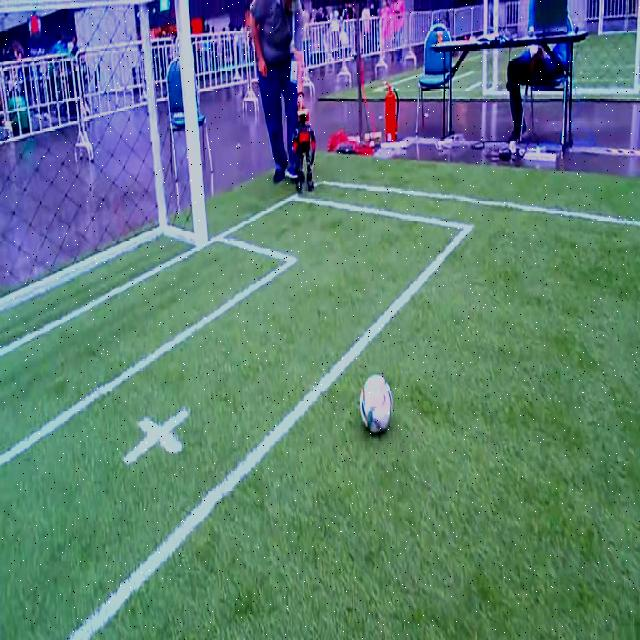ball: (360, 374, 392, 433)
